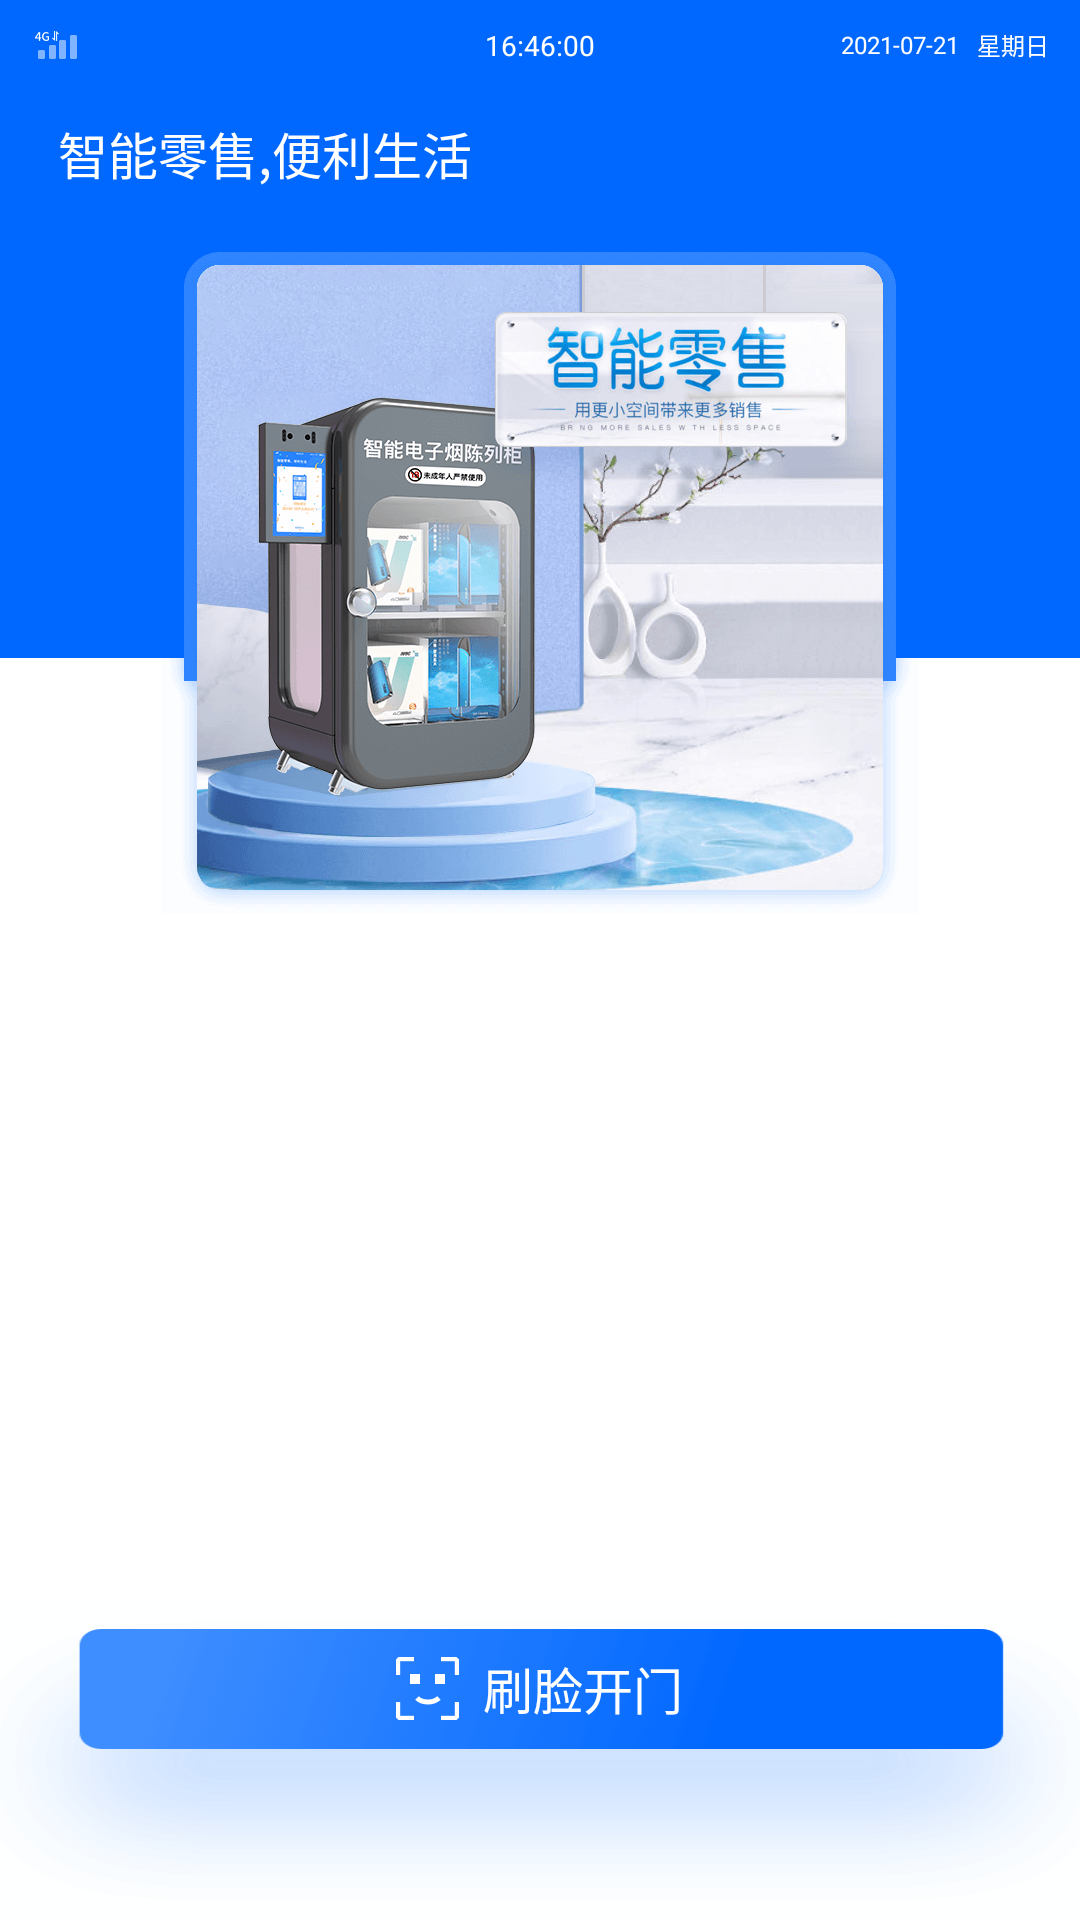

Where icons sit on this 1080*1920 app screen, as (x1, y1, x2, y2):
face: (396, 1657, 459, 1720)
signal: (35, 31, 77, 59)
